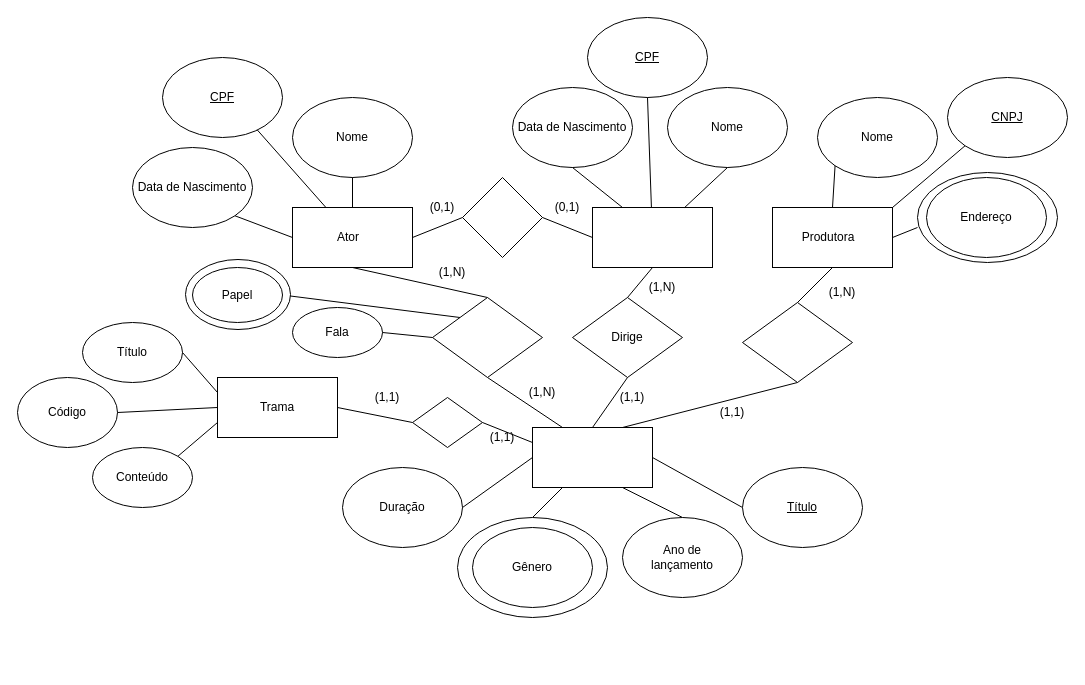
Some shapes in this 1085 by 685 pixel diagram are drawn without their labels. Each missing label, with the box of its shape:
Cria: (742, 302, 852, 382)
Diretor: (592, 206, 712, 268)
Filme: (532, 426, 652, 488)
Função: (462, 176, 542, 258)
Informa: (412, 396, 482, 448)
Participa: (432, 296, 542, 378)
